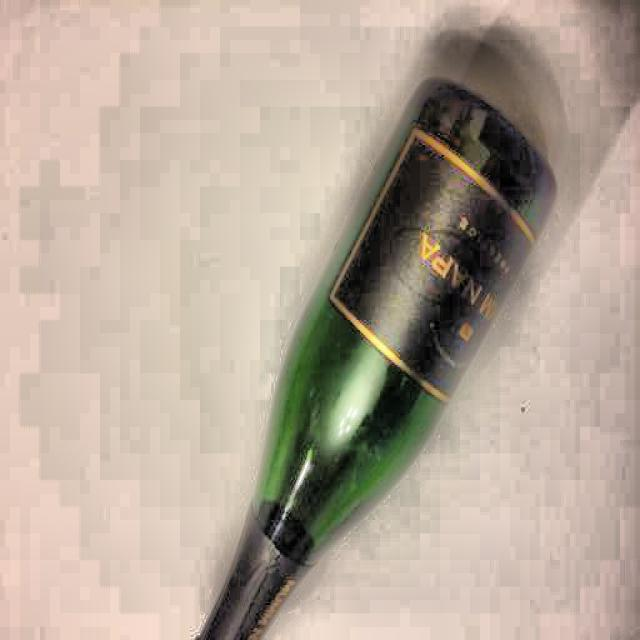glass: (203, 80, 558, 640)
